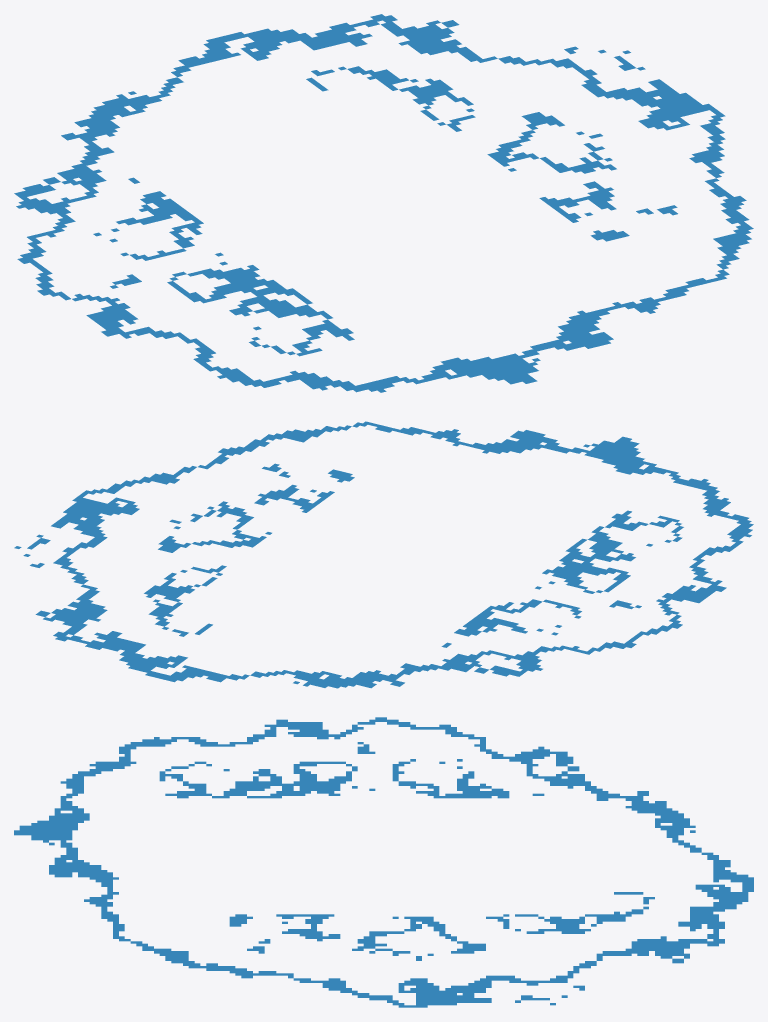
The model's file is Isl-orc3-PlaceForWaterObjects.fbx.
The picture shows the model from 3 angles, top to bottom: view 1: azimuth 30°, elevation 25°; view 2: azimuth 150°, elevation 25°; view 3: azimuth 270°, elevation 25°; orthographic projection. The views are drawn at different scales.
Visible parts, largest first — view 1: Isl-orc3-PlaceForWaterObjects; view 2: Isl-orc3-PlaceForWaterObjects; view 3: Isl-orc3-PlaceForWaterObjects.
Boxes of the visible parts, box(x1,y1,x2,y2) form: Isl-orc3-PlaceForWaterObjects: box(14, 14, 753, 392); Isl-orc3-PlaceForWaterObjects: box(14, 421, 753, 688); Isl-orc3-PlaceForWaterObjects: box(14, 717, 753, 1007).
Bounding box in the file's own units: 118 × 0 × 127.
